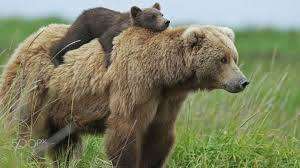bear: (1, 1, 252, 168)
